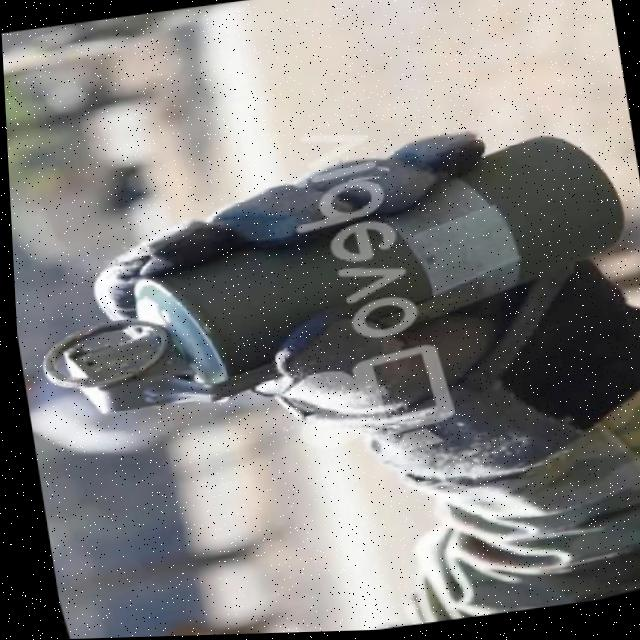grenade: (5, 109, 640, 450)
